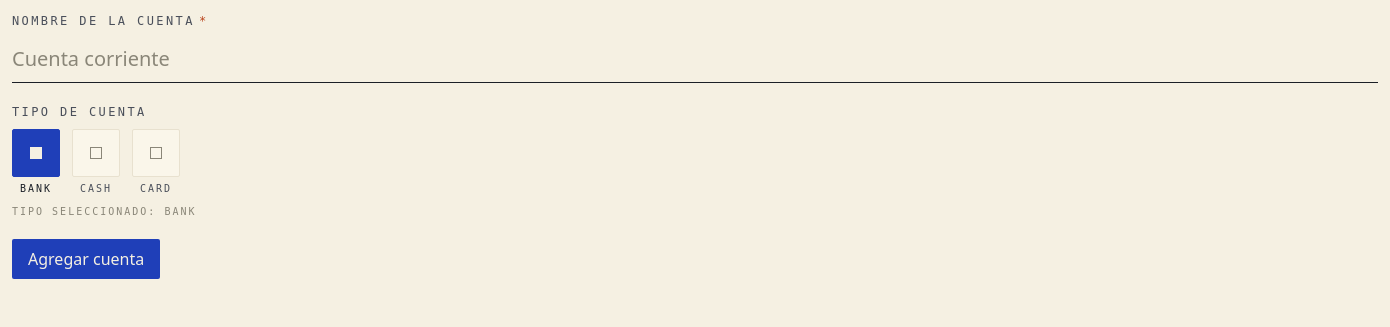
Test: AccountForm › submitting with an empty name surfaces the required validation error
What coordinates should you click on to do the following:
click the button "Agregar cuenta"
I would click on:
 (86, 259)
Its box is [12,239,160,279].
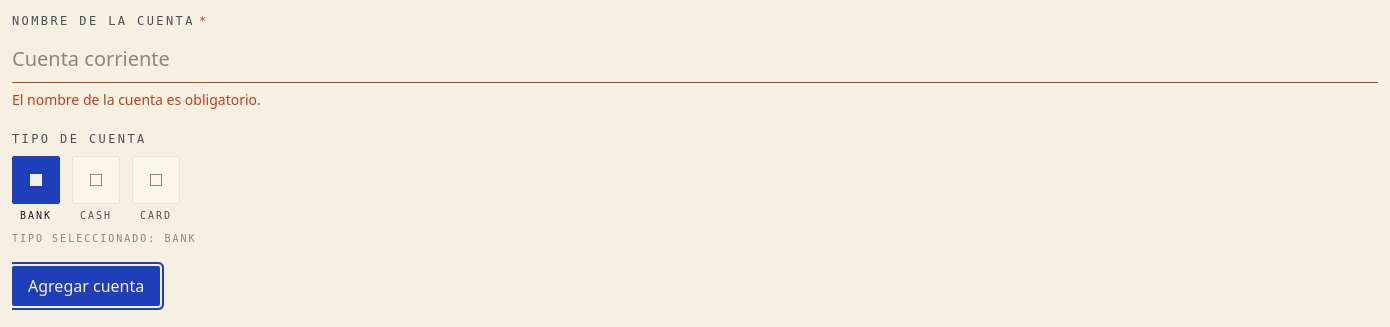
Expected: the message shows "nombre de la cuenta es obligatorio", [12,90,261,109]
